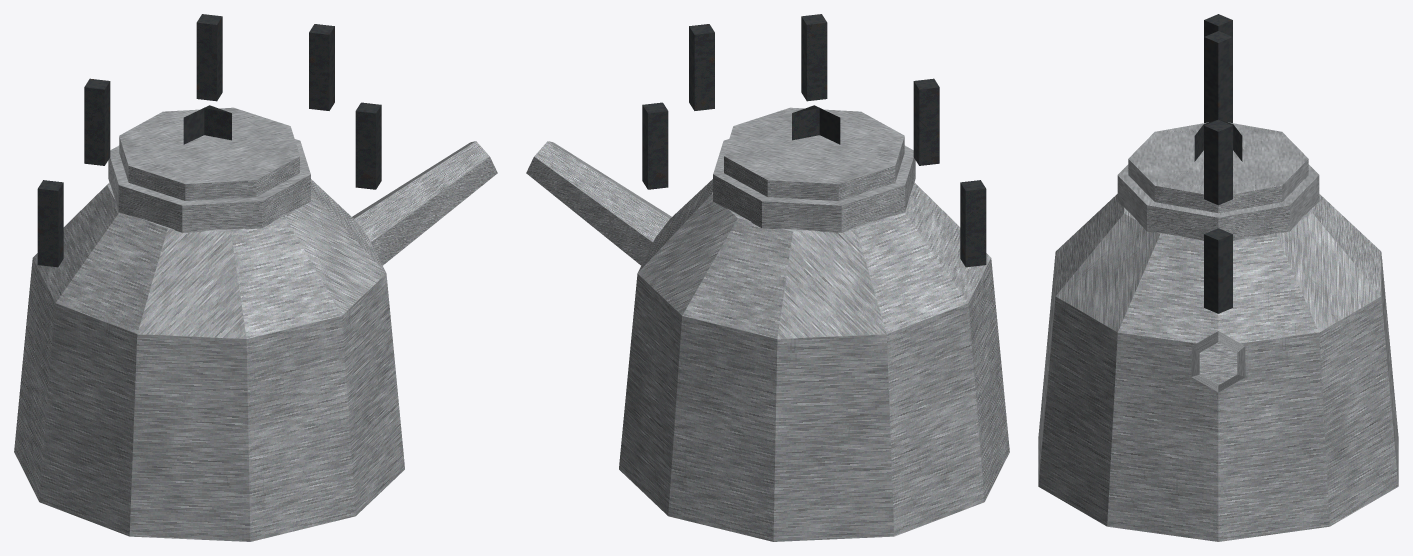
The model's file is kettle.glb.
3 views of the same model, side by side, from view 1: azimuth 30°, elevation 25°; view 2: azimuth 150°, elevation 25°; view 3: azimuth 270°, elevation 25° (orthographic). The views are drawn at different scales.
Parts seen in each view (by area): view 1: kettle; view 2: kettle; view 3: kettle.
Boxes of the visible parts, box(x1,y1,x2,y2) form: kettle: box(14, 14, 497, 541); kettle: box(526, 14, 1009, 541); kettle: box(1038, 14, 1398, 541).
Size of the model in its own units: 0.2802 by 0.26 by 0.1997.
Materials: 2 (2 with a texture image).
